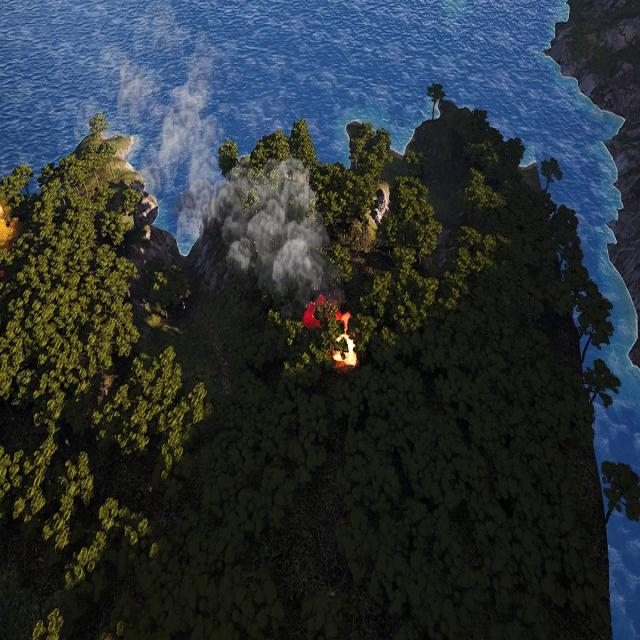fire: (332, 312, 358, 369), (0, 202, 8, 242)
smoke: (115, 34, 334, 299), (303, 295, 351, 331)
